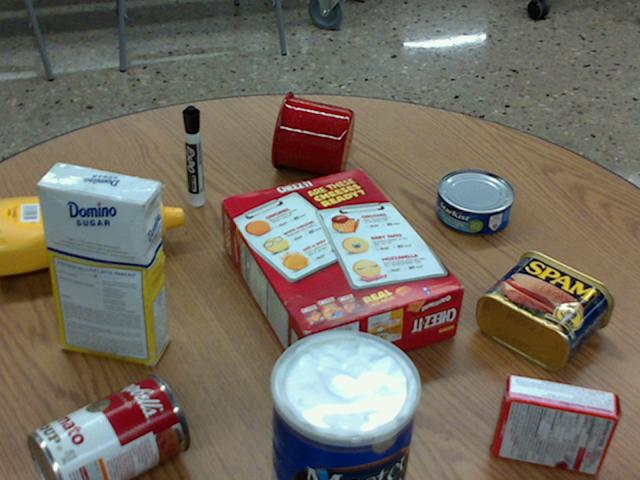cracker_box: (219, 169, 462, 376)
gelatin_box: (492, 373, 617, 473)
large_marker: (182, 106, 203, 205)
master_chef_can: (268, 330, 418, 479)
mug: (271, 91, 353, 176)
mustard_bottle: (0, 190, 182, 275)
potted_meat_can: (477, 249, 613, 370)
sugar_box: (36, 162, 165, 366)
tomato_soup_can: (29, 373, 189, 479)
tuna_fish_can: (436, 169, 514, 234)
